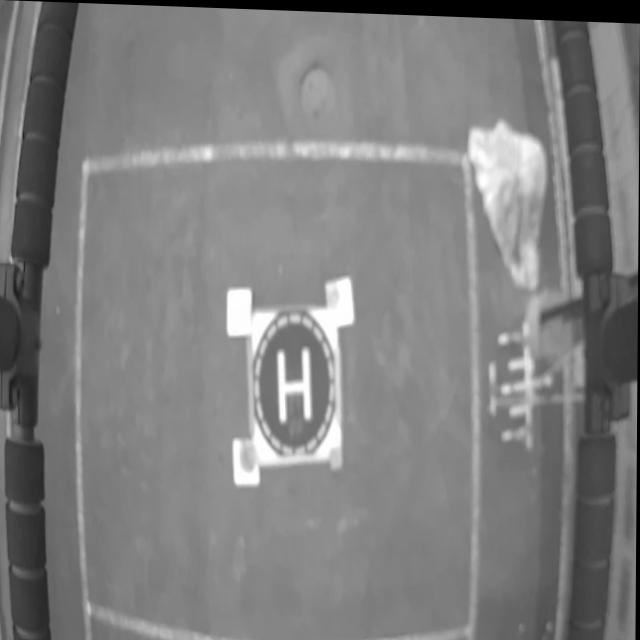Helipad: (277, 344, 314, 422)
